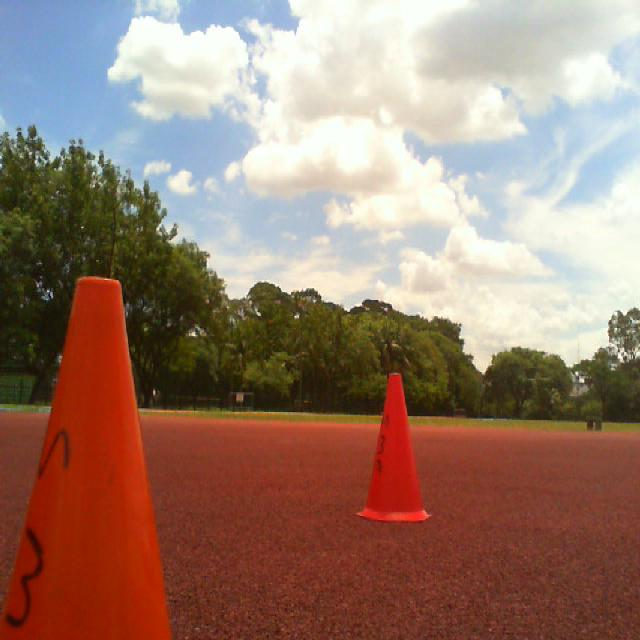cone: (1, 277, 171, 640), (356, 372, 431, 521)
